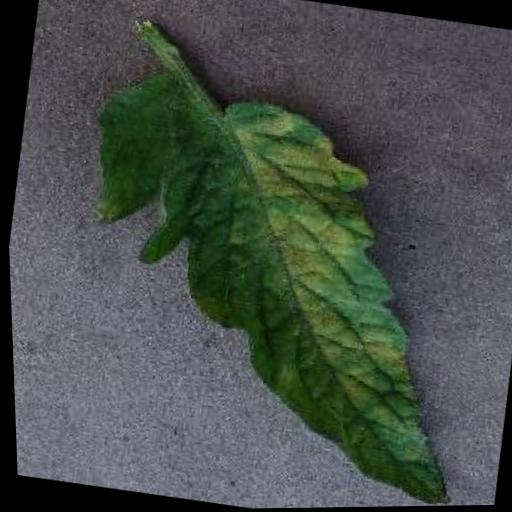Leaf Mold: (42, 61, 505, 512)
